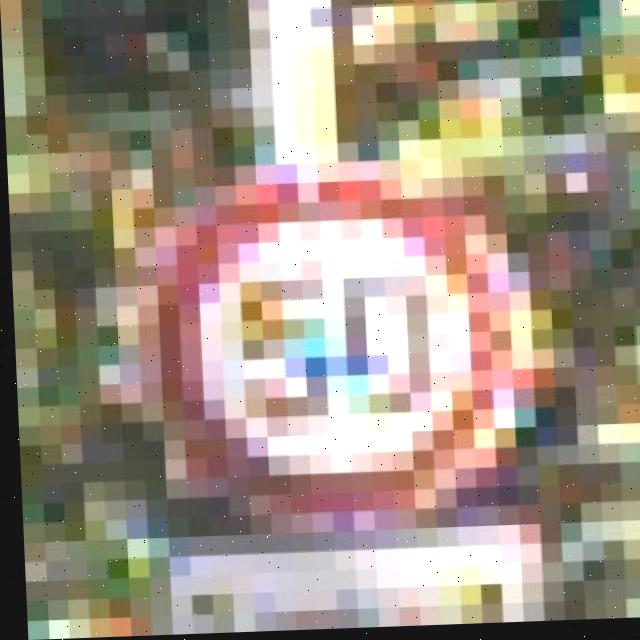Speed limit 50: (144, 160, 538, 535)
